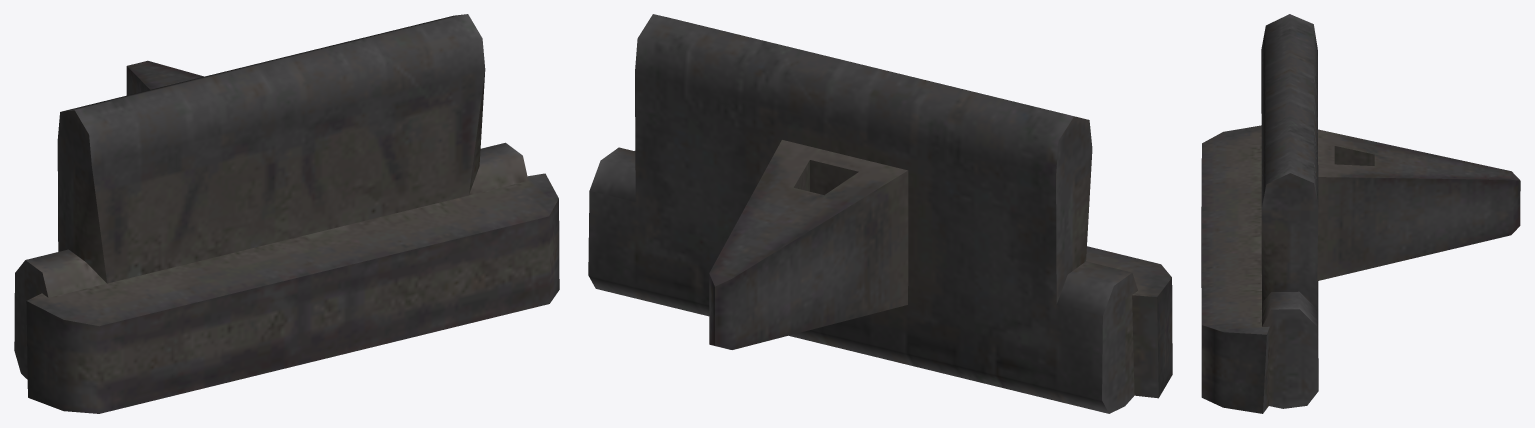
The picture shows the model from 3 angles, left to right: view 1: azimuth 30°, elevation 25°; view 2: azimuth 150°, elevation 25°; view 3: azimuth 270°, elevation 25°; orthographic projection. The views are drawn at different scales.
Parts seen in each view (by area): view 1: set_0_group_0; view 2: set_0_group_0; view 3: set_0_group_0.
Part boxes in pixels (<box>): set_0_group_0: <box>14,14,559,413</box>; set_0_group_0: <box>588,14,1172,413</box>; set_0_group_0: <box>1201,14,1520,413</box>.
Bounding box in the file's own units: 0.2718 × 0.1318 × 0.1745.
Materials: 1 (1 with a texture image).
